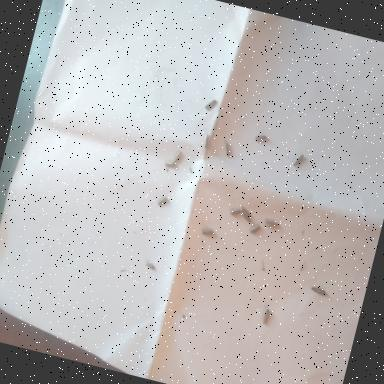pbw: (220, 140, 234, 159), (252, 132, 268, 147), (238, 207, 252, 224), (155, 192, 168, 210), (161, 159, 175, 175), (200, 133, 211, 152), (292, 152, 304, 169), (310, 285, 326, 297), (228, 206, 242, 219), (264, 218, 279, 230), (204, 98, 216, 113), (248, 223, 260, 237), (261, 308, 270, 326), (172, 148, 182, 164), (200, 228, 213, 238), (144, 262, 156, 272)
